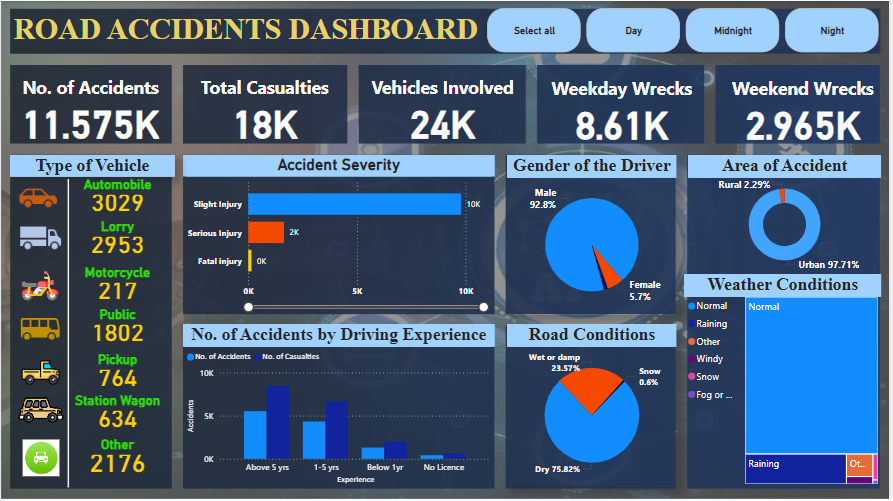

Layout of this report page (visuals, bound fields, positions):
{"tool":"powerbi","page":{"name":"Page 1","canvas":[1280,720],"ordinal":0},"visuals":[{"type":"cardVisual","fields":{"Data":["CountNonNull(Road.Accident_severity)"]},"box":[10.3,90,237.4,116.5],"z":0},{"type":"cardVisual","fields":{"Data":["Sum(Road.Casualties)"]},"box":[261,90,238.9,116.5],"z":1000},{"type":"cardVisual","fields":{"Data":["Sum(Road.Number_of_vehicles_involved)"]},"box":[514.7,90,243.3,116.5],"z":2000},{"type":"cardVisual","fields":{"Data":["Road.Count of Weekend/Weekday Accidents for Weekend"]},"box":[1029.3,90,250.7,116.5],"z":3000},{"type":"cardVisual","fields":{"Data":["Road.Count of Weekend/Weekday Accidents for Weekday"]},"box":[773.3,90,241.9,116.5],"z":4000},{"type":"advancedSlicerVisual","fields":{"Values":["Road.Time_of_day"]},"box":[699.8,10.1,567.4,64.8],"z":5000},{"type":"textbox","box":[12.3,10.8,686.9,64.5],"z":6000},{"type":"pieChart","title":"Gender of the Driver","fields":{"Category":["Road.Sex_of_driver"],"Y":["CountNonNull(Road.Sex_of_driver)"]},"box":[728.4,221.3,244.3,230.5],"z":7000},{"type":"donutChart","title":"Area of Accident","fields":{"Category":["Road.Area_of_accident"],"Y":["CountNonNull(Road.Area_of_accident)"]},"box":[989.6,221.3,278.1,172.1],"z":8000},{"type":"barChart","title":"Accident Severity","fields":{"Category":["Road.Accident_severity"],"Y":["CountNonNull(Road.Accident_severity)"]},"box":[262.8,221.3,448.7,230.5],"z":9000},{"type":"clusteredColumnChart","title":"No. of Accidents by Driving Experience","fields":{"Category":["Road.Driving_experience"],"Y":["CountNonNull(Road.Casualties)","Sum(Road.Casualties)1"]},"box":[262.8,465.6,448.7,235.1],"z":10000},{"type":"pieChart","title":"Road Conditions","fields":{"Category":["Road.Road_surface_conditions"],"Y":["CountNonNull(Road.Road_surface_conditions)"]},"box":[728.4,465.6,244.3,235.1],"z":11000},{"type":"treemap","title":"Weather Conditions","fields":{"Group":["Road.Weather_conditions"],"Values":["CountNonNull(Road.Accident_severity)"]},"box":[983.4,393.4,284.3,307.3],"z":12000},{"type":"image","box":[10.8,248.9,86.1,69.1],"z":13000},{"type":"textbox","title":"Type of Vehicle","box":[12.3,221.3,236.6,30.7],"z":14000},{"type":"card","title":"Automobile","fields":{"Values":["Road.Count of Type_of_vehicle for Automobile"]},"box":[86.1,252,162.9,64.5],"z":15000},{"type":"shape","box":[43,256.6,107.6,444.1],"z":16000},{"type":"image","box":[20,304.2,73.8,73.8],"z":17000},{"type":"card","title":"Lorry","fields":{"Values":["Road.Count of Type_of_vehicle for Lorry"]},"box":[86.1,311.9,162.9,64.5],"z":18000},{"type":"image","box":[12.3,378,86.1,63],"z":19000},{"type":"card","title":"Motorcycle","fields":{"Values":["Road.Count of Type_of_vehicle for Motorcycle"]},"box":[86.1,378,162.9,64.5],"z":20000},{"type":"image","box":[12.3,436.4,86.1,70.7],"z":21000},{"type":"card","title":"Public","fields":{"Values":["Road.Count of Type_of_vehicle for Public"]},"box":[86.1,439.5,162.9,64.5],"z":22000},{"type":"image","box":[0,502.5,113.7,64.5],"z":23000},{"type":"card","title":"Pickup","fields":{"Values":["Road.Count of Type_of_vehicle for Pick Up"]},"box":[86.1,504,162.9,64.5],"z":24000},{"type":"image","box":[12.3,551.6,89.1,75.3],"z":25000},{"type":"card","title":"Station Wagon","fields":{"Values":["Road.Count of Type_of_vehicle for Stationwagen"]},"box":[86.1,562.4,162.9,64.5],"z":26000},{"type":"image","box":[20,626.9,75.3,63],"z":27000},{"type":"card","title":"Other","fields":{"Values":["Road.Count of Type_of_vehicle for Other"]},"box":[86.1,626.9,162.9,64.5],"z":28000}]}

Visuals, with their boxes in screenshot pixels (x1, y1, x2, y2), scaled from the page's 1280x720 canvas onto the 893x501 screenshot:
cardVisual - CountNonNull(Road.Accident_severity): <bbox>7, 63, 173, 144</bbox>
cardVisual - Sum(Road.Casualties): <bbox>182, 63, 349, 144</bbox>
cardVisual - Sum(Road.Number_of_vehicles_involved): <bbox>359, 63, 529, 144</bbox>
cardVisual - Road.Count of Weekend/Weekday Accidents for Weekend: <bbox>718, 63, 892, 144</bbox>
cardVisual - Road.Count of Weekend/Weekday Accidents for Weekday: <bbox>539, 63, 708, 144</bbox>
advancedSlicerVisual - Road.Time_of_day: <bbox>488, 7, 884, 52</bbox>
textbox: <bbox>9, 8, 488, 52</bbox>
"Gender of the Driver" pieChart: <bbox>508, 154, 679, 314</bbox>
"Area of Accident" donutChart: <bbox>690, 154, 884, 274</bbox>
"Accident Severity" barChart: <bbox>183, 154, 496, 314</bbox>
"No. of Accidents by Driving Experience" clusteredColumnChart: <bbox>183, 324, 496, 488</bbox>
"Road Conditions" pieChart: <bbox>508, 324, 679, 488</bbox>
"Weather Conditions" treemap: <bbox>686, 274, 884, 488</bbox>
image: <bbox>8, 173, 68, 221</bbox>
"Type of Vehicle" textbox: <bbox>9, 154, 174, 175</bbox>
"Automobile" card: <bbox>60, 175, 174, 220</bbox>
shape: <bbox>30, 179, 105, 488</bbox>
image: <bbox>14, 212, 65, 263</bbox>
"Lorry" card: <bbox>60, 217, 174, 262</bbox>
image: <bbox>9, 263, 69, 307</bbox>
"Motorcycle" card: <bbox>60, 263, 174, 308</bbox>
image: <bbox>9, 304, 69, 353</bbox>
"Public" card: <bbox>60, 306, 174, 351</bbox>
image: <bbox>0, 350, 79, 395</bbox>
"Pickup" card: <bbox>60, 351, 174, 396</bbox>
image: <bbox>9, 384, 71, 436</bbox>
"Station Wagon" card: <bbox>60, 391, 174, 436</bbox>
image: <bbox>14, 436, 66, 480</bbox>
"Other" card: <bbox>60, 436, 174, 481</bbox>
